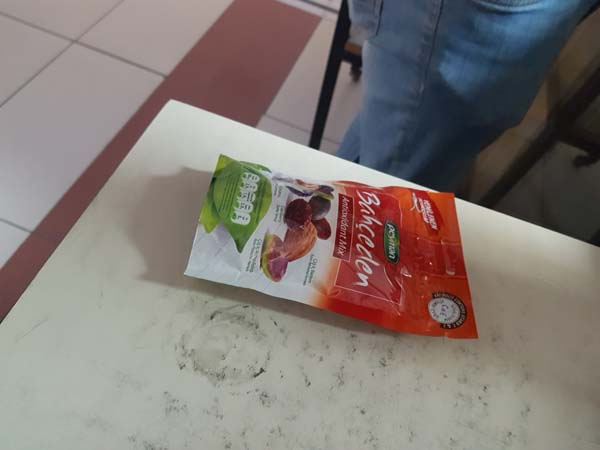bahcedenantioxidan: (182, 150, 486, 344)
